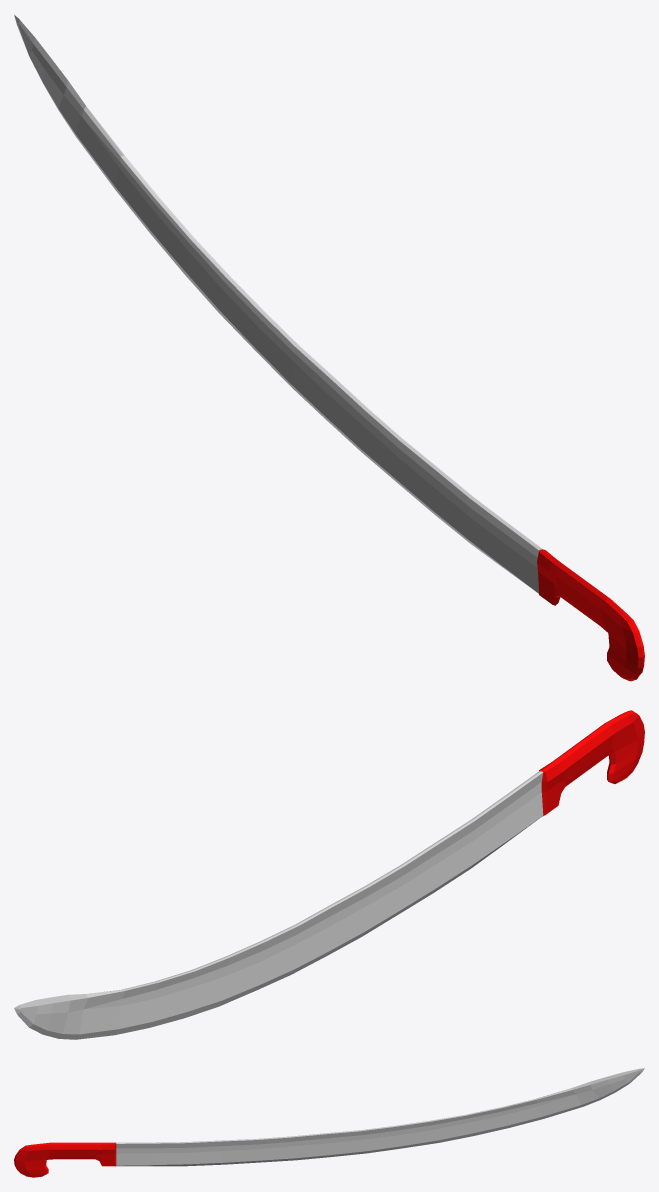
File: Shashka.glb
3 views of the same model, one above another, from view 1: azimuth 30°, elevation 25°; view 2: azimuth 150°, elevation 25°; view 3: azimuth 270°, elevation 25° (orthographic). The views are drawn at different scales.
Visible parts, largest first — view 1: Shashka; view 2: Shashka; view 3: Shashka.
Boxes of the visible parts, x1,y1,x2,y2 form: Shashka: (14,15,644,681); Shashka: (14,710,644,1039); Shashka: (14,1068,644,1177).
Bounding box in the file's own units: 0.012 × 0.1913 × 1.
